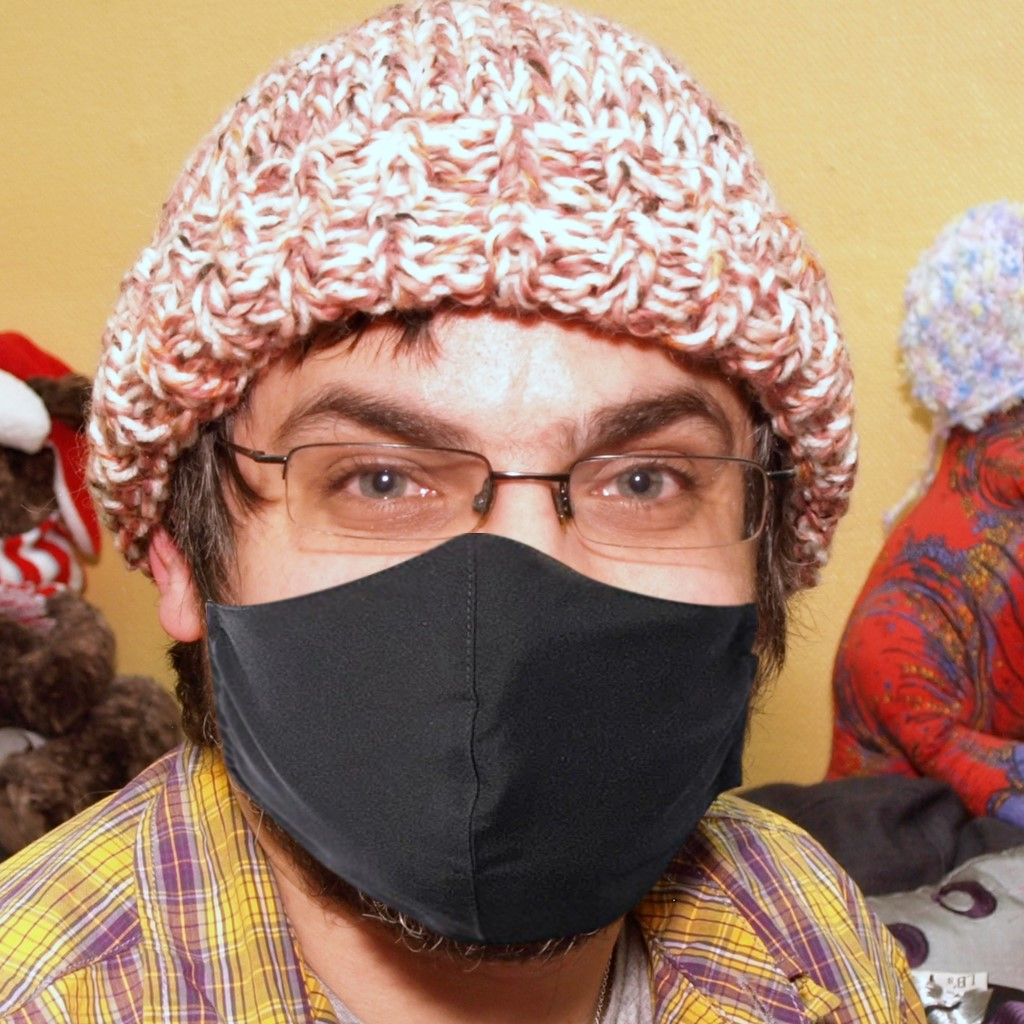con_mascara: (128, 195, 817, 946)
